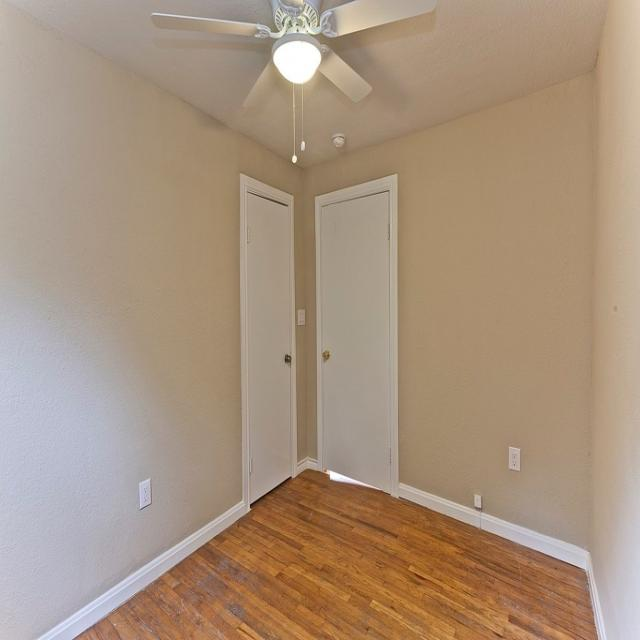Bulb: (151, 0, 436, 165)
